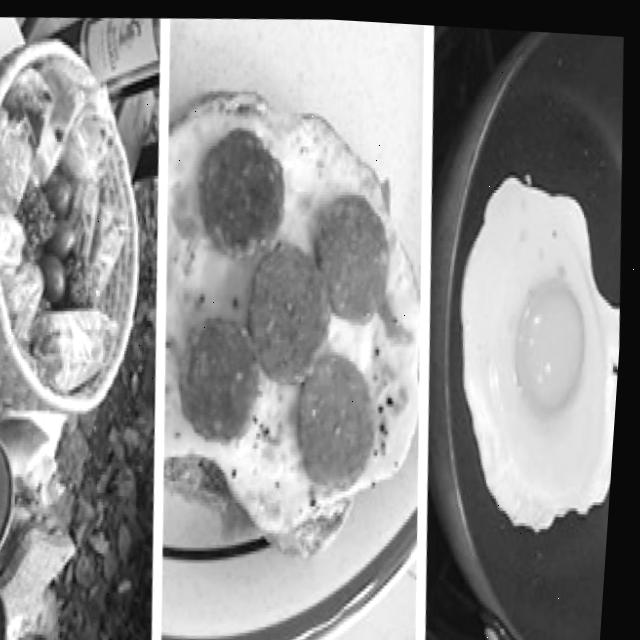鸡蛋料理: (459, 124, 635, 564)
